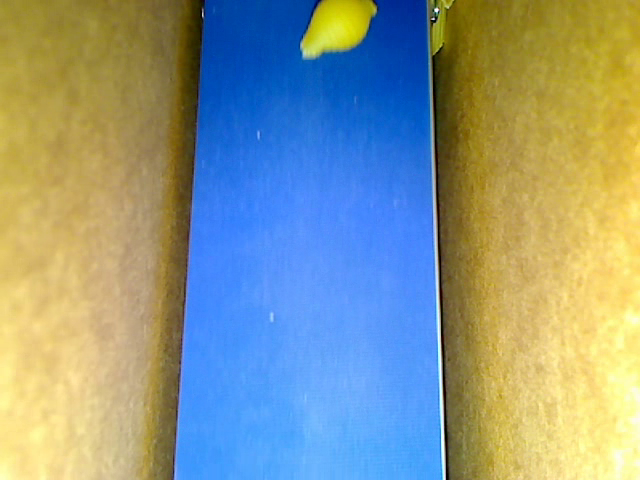penne: (431, 1, 447, 57), (439, 1, 457, 10)
shell: (300, 1, 381, 59)
